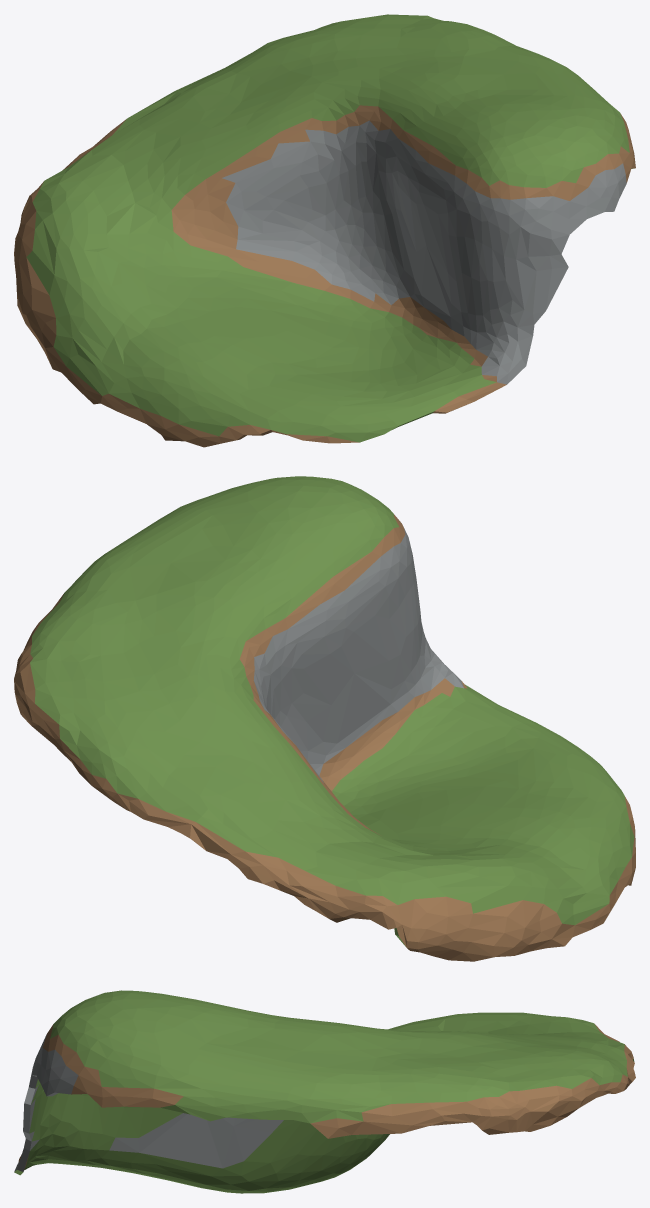
The model's file is IslandGround.fbx.
The picture shows the model from 3 angles, top to bottom: view 1: azimuth 30°, elevation 25°; view 2: azimuth 150°, elevation 25°; view 3: azimuth 270°, elevation 25°; orthographic projection. The views are drawn at different scales.
Visible parts, largest first — view 1: IslandGround; view 2: IslandGround; view 3: IslandGround.
Boxes of the visible parts, <box> form: IslandGround: <box>14,14,635,447</box>; IslandGround: <box>14,476,635,961</box>; IslandGround: <box>14,990,635,1193</box>.
Bounding box in the file's own units: 86.08 × 43.88 × 89.95.
